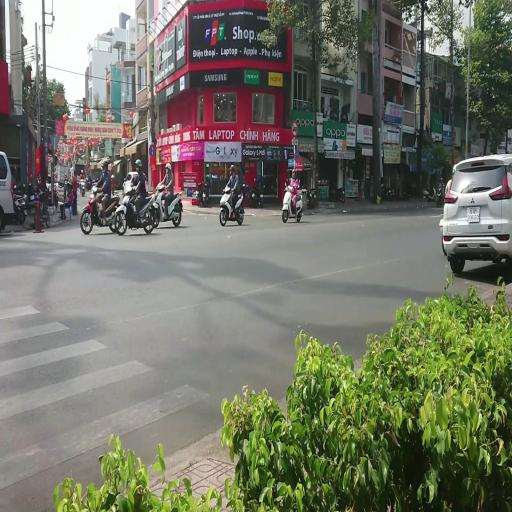bikes: (80, 172, 183, 236), (113, 187, 156, 235), (80, 186, 121, 234), (12, 178, 50, 228), (150, 184, 182, 227), (219, 186, 244, 226), (281, 181, 303, 222), (30, 185, 50, 227), (140, 192, 160, 228), (11, 182, 28, 224), (422, 177, 445, 203), (244, 178, 264, 206), (55, 176, 71, 201), (122, 171, 138, 196), (196, 181, 209, 207), (330, 186, 346, 202), (422, 186, 437, 202), (436, 183, 445, 206), (306, 187, 316, 207), (79, 178, 86, 196), (85, 174, 92, 190)
helmet: (135, 160, 142, 168), (111, 175, 115, 189), (101, 160, 108, 167), (157, 183, 164, 190), (92, 186, 98, 194), (37, 172, 41, 184), (165, 163, 171, 170), (286, 177, 292, 184), (287, 186, 293, 192), (230, 165, 235, 172), (292, 170, 296, 178), (98, 161, 102, 169), (206, 174, 211, 180), (110, 173, 114, 179), (108, 164, 112, 170), (80, 169, 83, 174), (65, 174, 67, 178)
